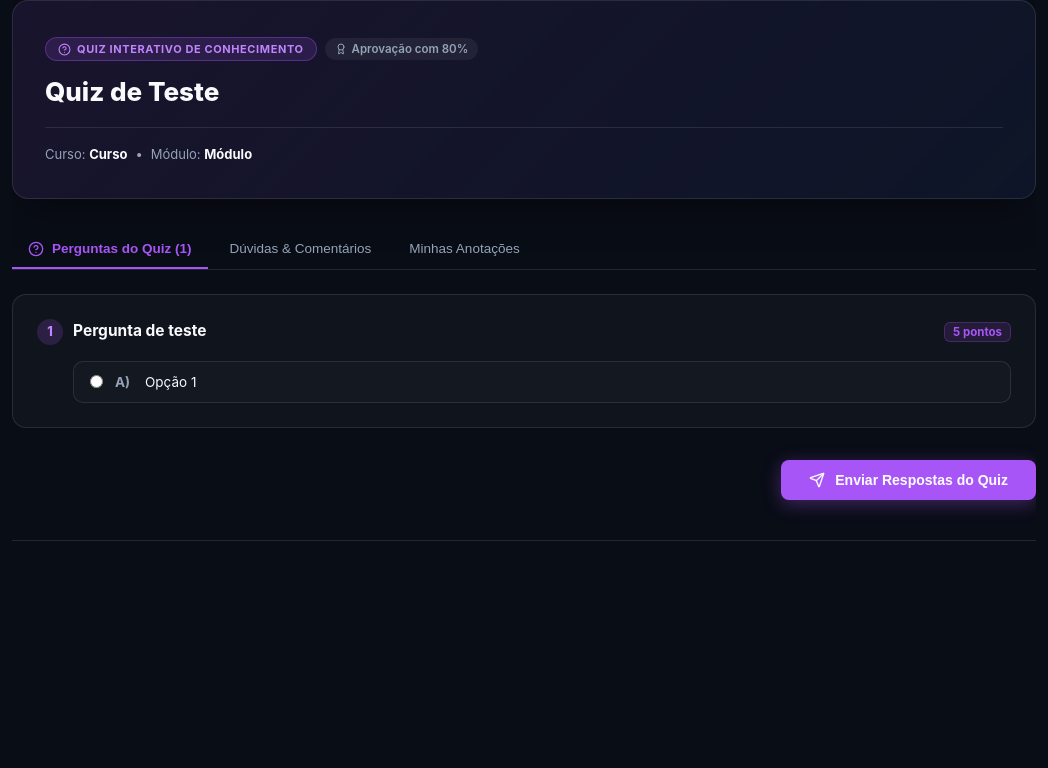
Lesson Quiz Scoring & Passing Score Percentage › submits quiz and shows points earned vs total points in result banner
Check: the heading "Pergunta de teste" is shown, box [73, 319, 206, 343]
Click the radio button: coordinates (96, 382) [90, 375, 103, 388]
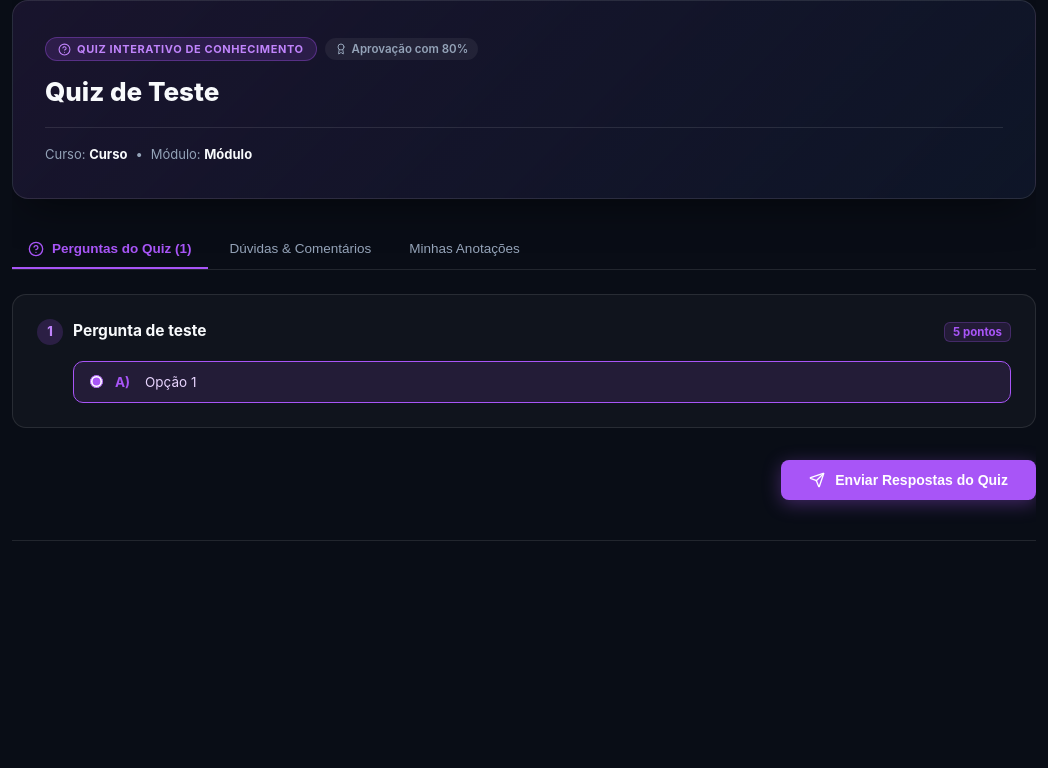
Click the button with test id "submit-quiz-btn": coordinates (909, 480) [781, 460, 1036, 500]
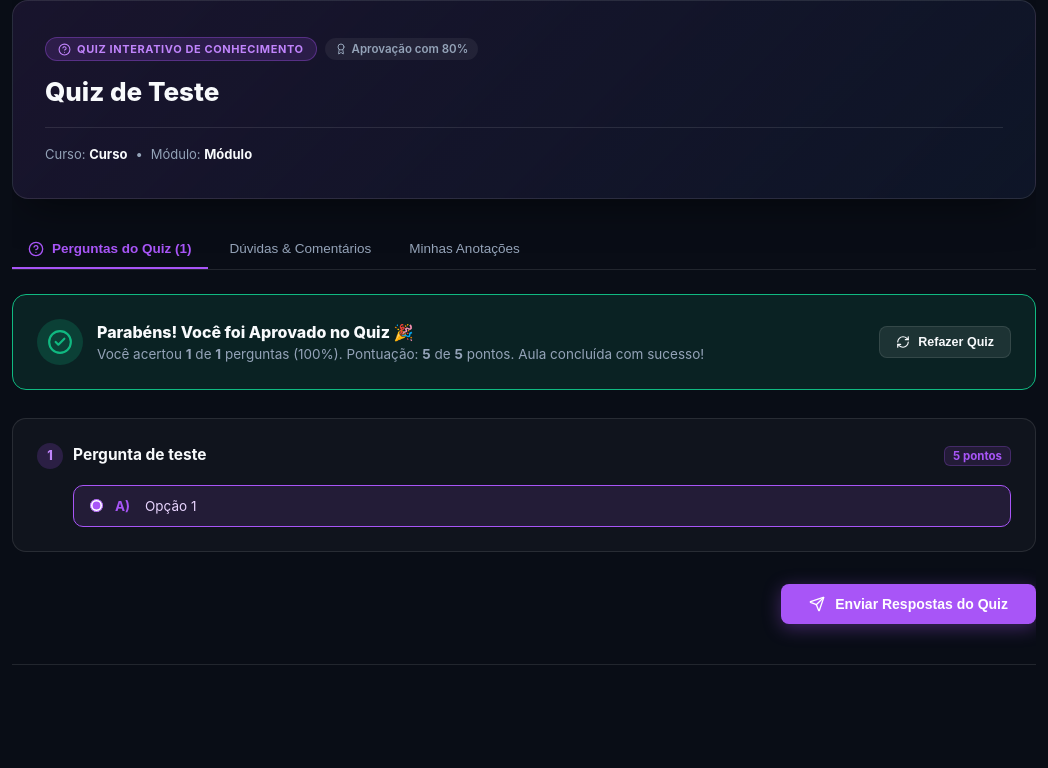
Check: the element with test id "quiz-result-banner" is shown, box [12, 294, 1036, 390]
Check: the heading "Parabéns! Você foi Aprovado no Quiz 🎉" is shown, box [97, 322, 413, 342]
